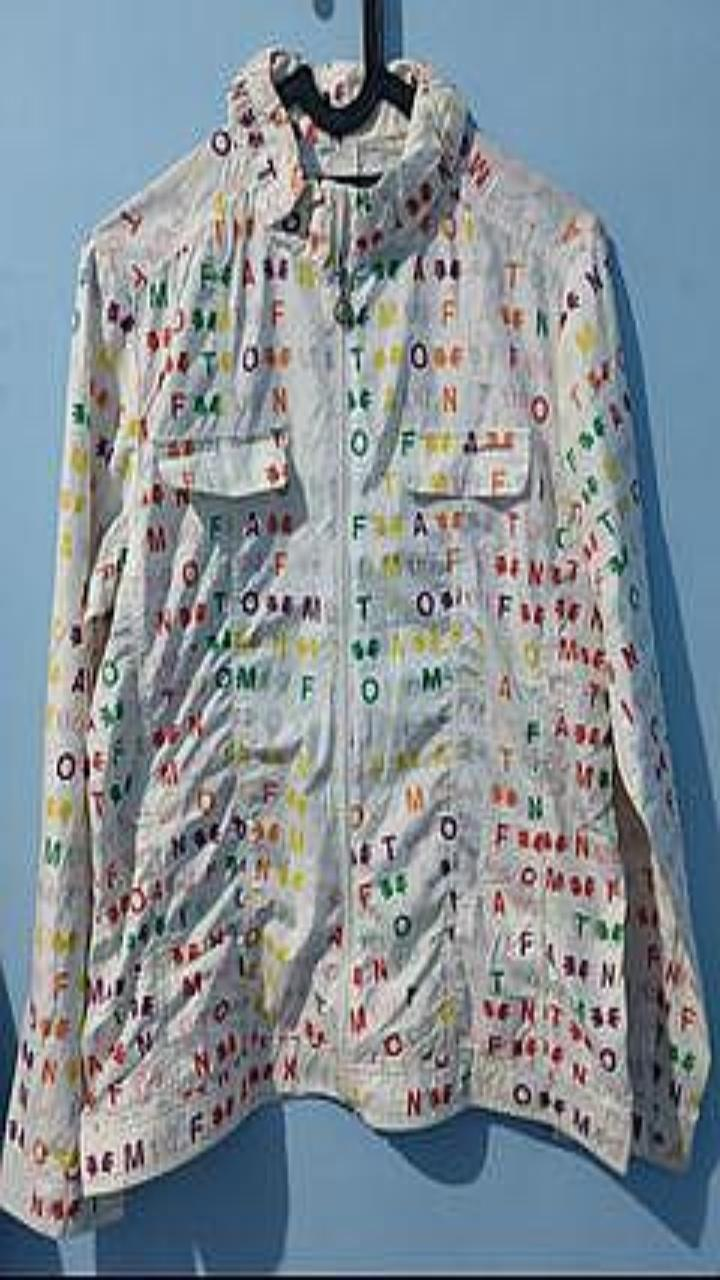Sports_Jacket: (0, 47, 708, 1236)
